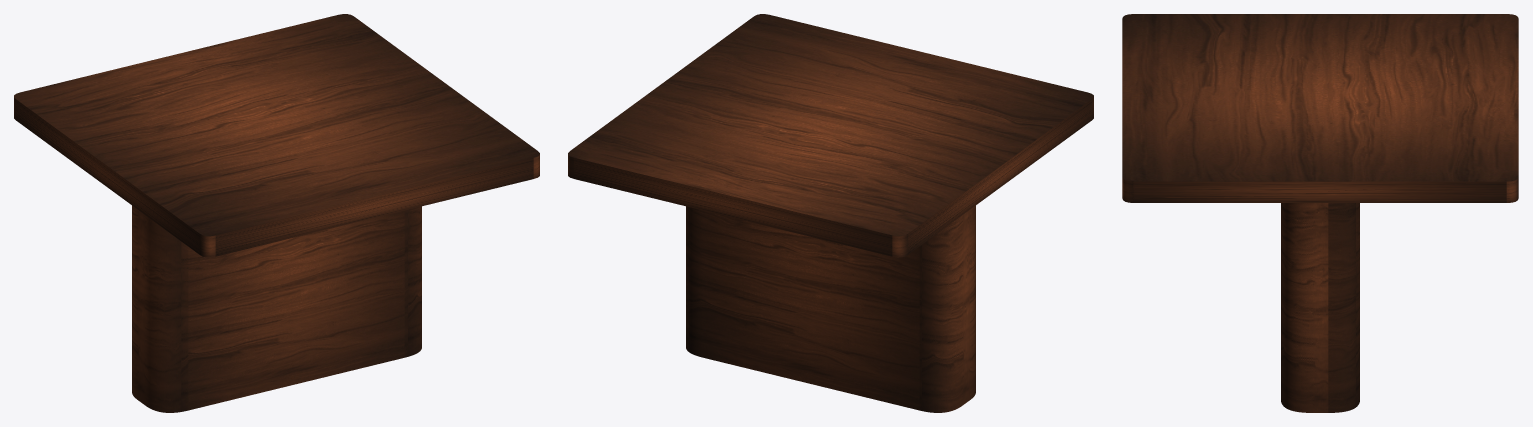
File: Wooden Square Table New.FBX
The picture shows the model from 3 angles, left to right: view 1: azimuth 30°, elevation 25°; view 2: azimuth 150°, elevation 25°; view 3: azimuth 270°, elevation 25°; orthographic projection.
Parts seen in each view (by area): view 1: Box002, Box003; view 2: Box002, Box003; view 3: Box002, Box003.
Boxes of the visible parts, bbox=[...] form: Box002: bbox=[14, 14, 539, 257]; Box003: bbox=[132, 205, 421, 412]; Box002: bbox=[568, 14, 1093, 257]; Box003: bbox=[686, 205, 975, 412]; Box002: bbox=[1122, 14, 1518, 202]; Box003: bbox=[1281, 203, 1359, 412].
Size of the model in its own units: 50 by 34.55 by 50.
Materials: 1 (1 with a texture image).
